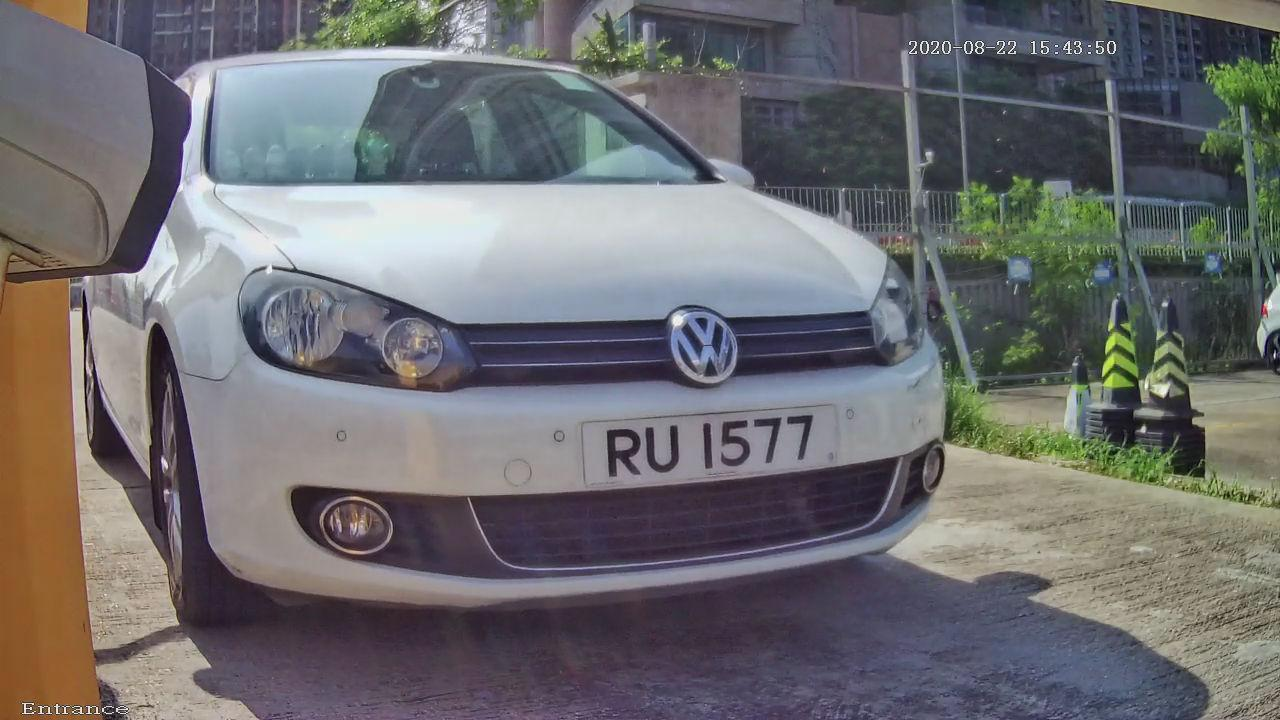Car: (6, 20, 1046, 676)
License Plate: (548, 357, 881, 517)
